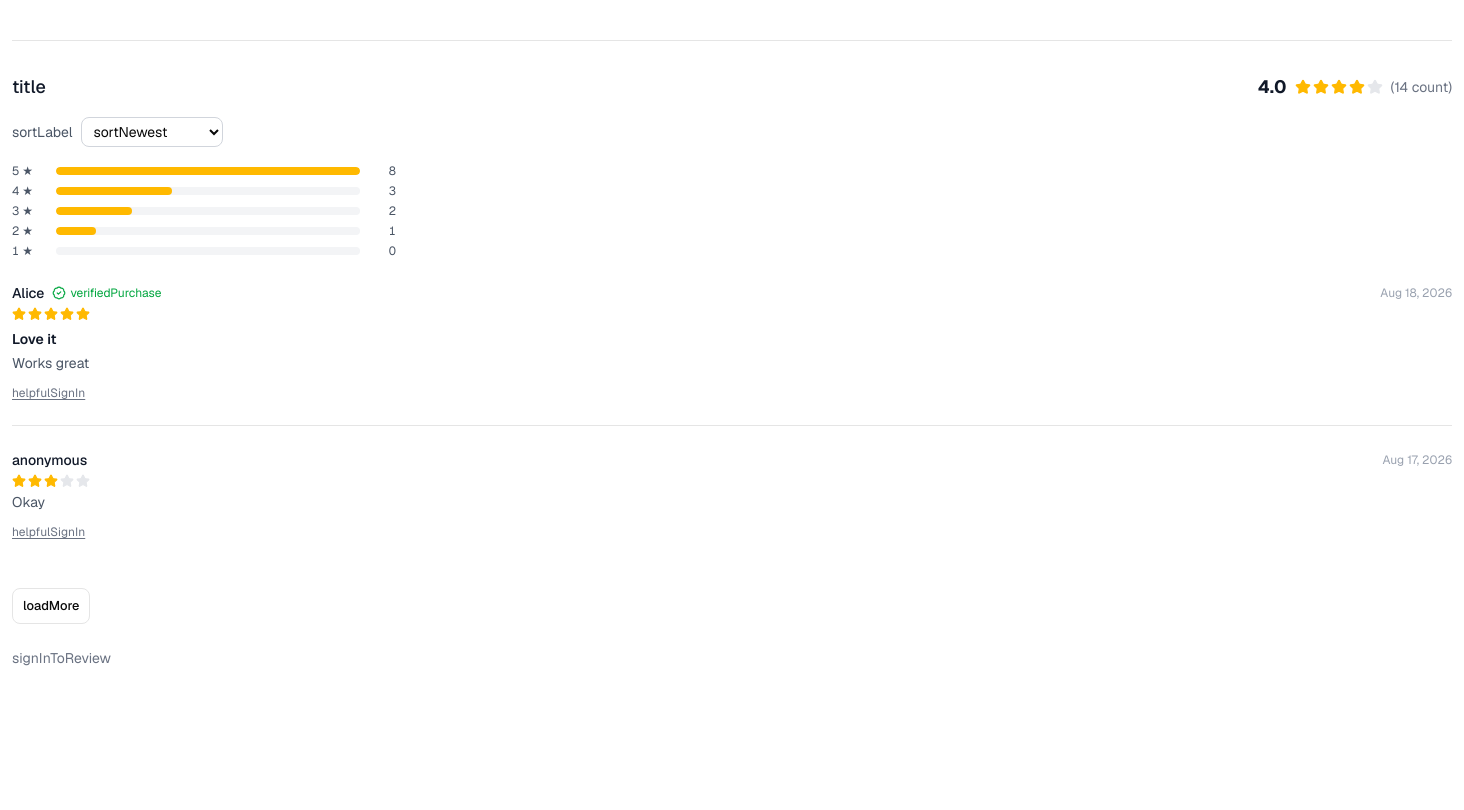
Test: ProductReviews — F-1 › appends the next page and hides the button on the last page
Click the button "loadMore".
click(51, 606)  # box [12,588,90,624]
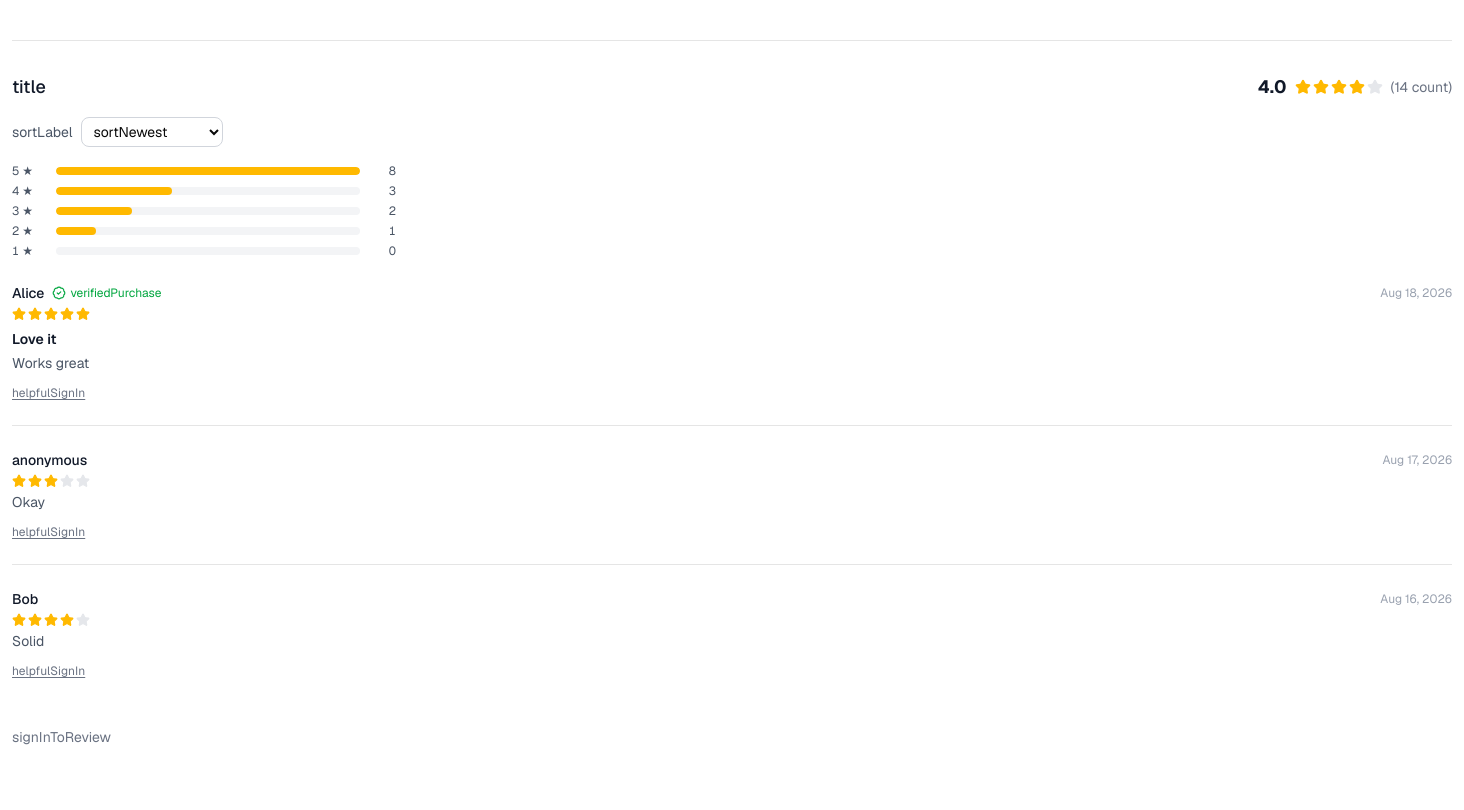
expect the text "Alice" is shown: met, box [12,283,44,303]
expect the text "Bob" is shown: met, box [12,589,38,609]
expect the button "loadMore" is gone: met
